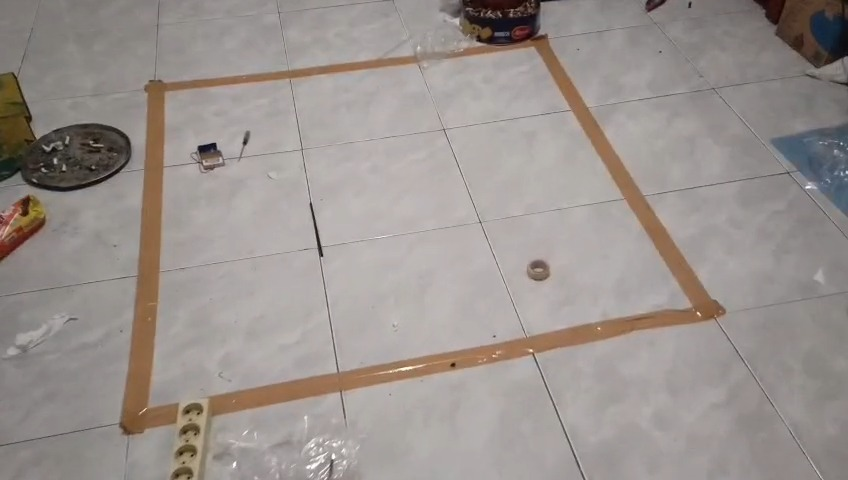floor marking: (211, 36, 724, 413), (120, 57, 415, 433)
